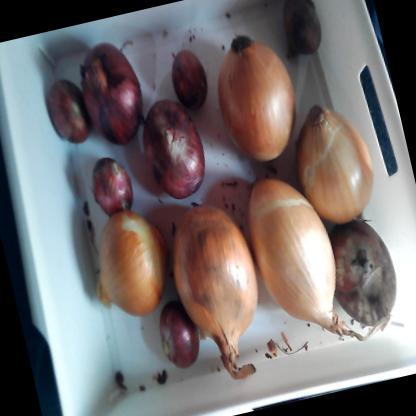onion: (150, 176, 279, 385), (230, 163, 358, 359), (284, 88, 390, 240), (204, 28, 312, 174), (71, 207, 183, 324), (67, 37, 154, 153), (134, 89, 216, 208), (160, 31, 218, 125), (39, 75, 96, 154), (85, 144, 140, 219)
